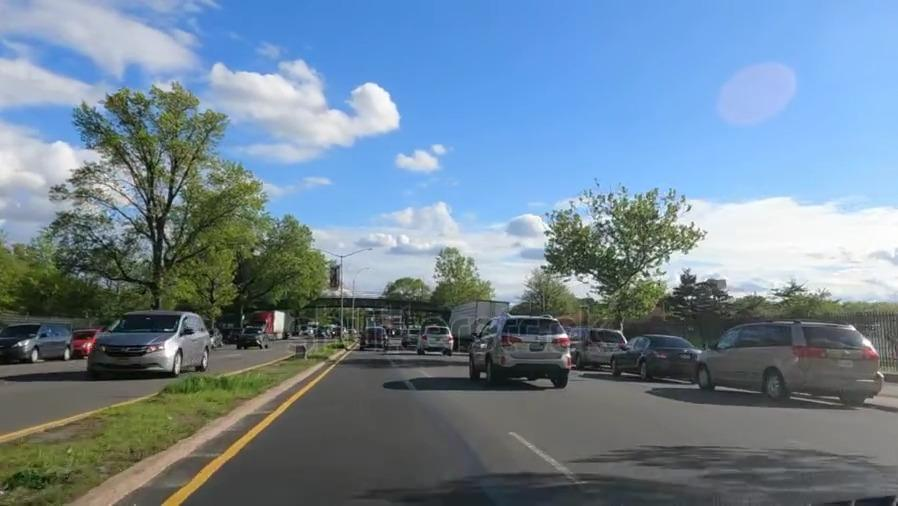car: (698, 319, 880, 404), (89, 307, 211, 379), (480, 315, 564, 379), (623, 327, 697, 378), (570, 318, 630, 367), (4, 327, 73, 359), (415, 321, 457, 355), (233, 323, 270, 352), (356, 327, 391, 353), (76, 327, 98, 354)
wheel: (761, 368, 786, 402), (696, 367, 709, 389)
